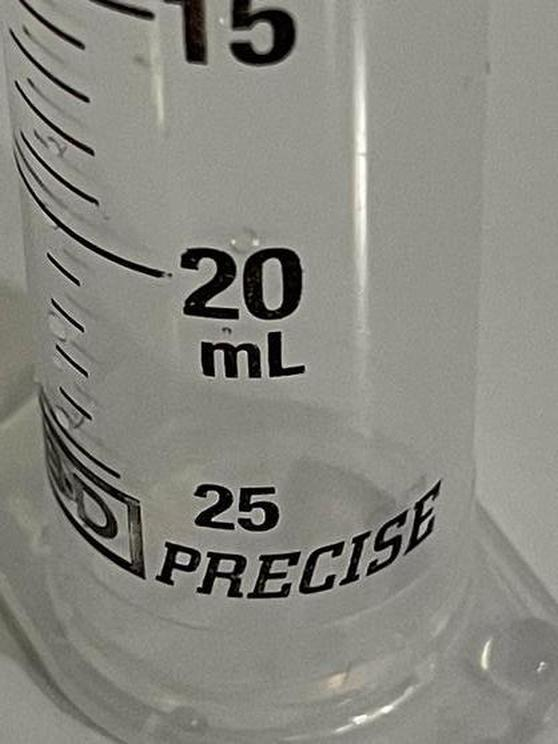wetsyringe: (1, 1, 558, 744)
